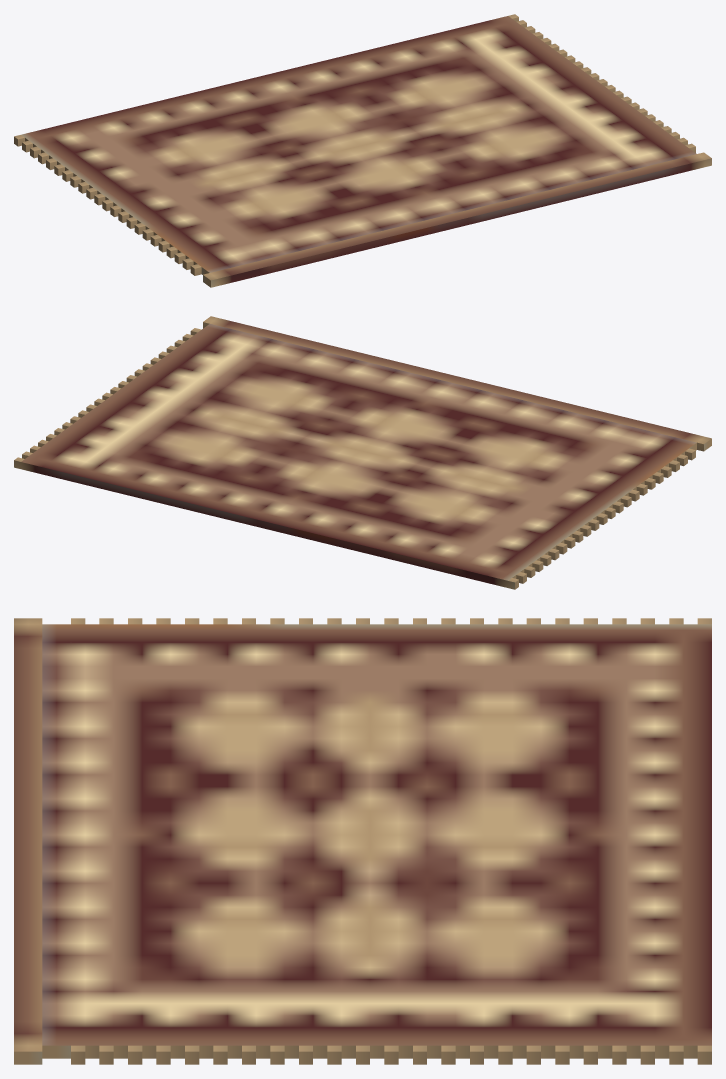
The model's file is BrownCarpet_00.obj.
3 renders of one model, top to bottom at view 1: azimuth 30°, elevation 25°; view 2: azimuth 150°, elevation 25°; view 3: azimuth 270°, elevation 25°, orthographic. The views are drawn at different scales.
Visible parts, largest first — view 1: BrownCarpet_00; view 2: BrownCarpet_00; view 3: BrownCarpet_00.
Part boxes in pixels (bbox=[...]): BrownCarpet_00: bbox=[14, 14, 711, 287]; BrownCarpet_00: bbox=[14, 316, 711, 589]; BrownCarpet_00: bbox=[14, 618, 711, 1064].
Size of the model in its own units: 3.6 by 0.05 by 2.45.
